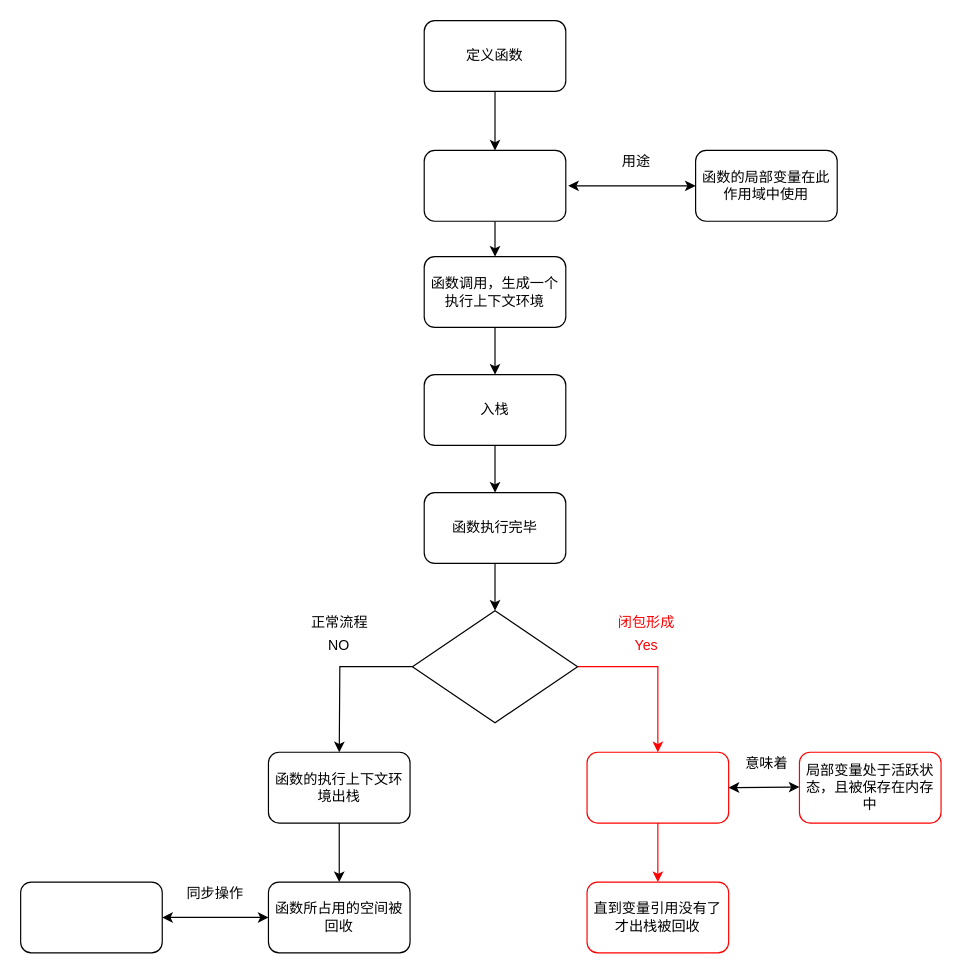
This 962x973 diagram has some shape labels left out. The centre of each missing label's shape, as x and y in pixels:
"不出栈" belongs at point 657,787.
"局部变量也一同被回收" belongs at point 90,917.
"局部变量是否 被返回函数内部引用" belongs at point 494,666.
"生成一个函数作用域" belongs at point 494,185.
